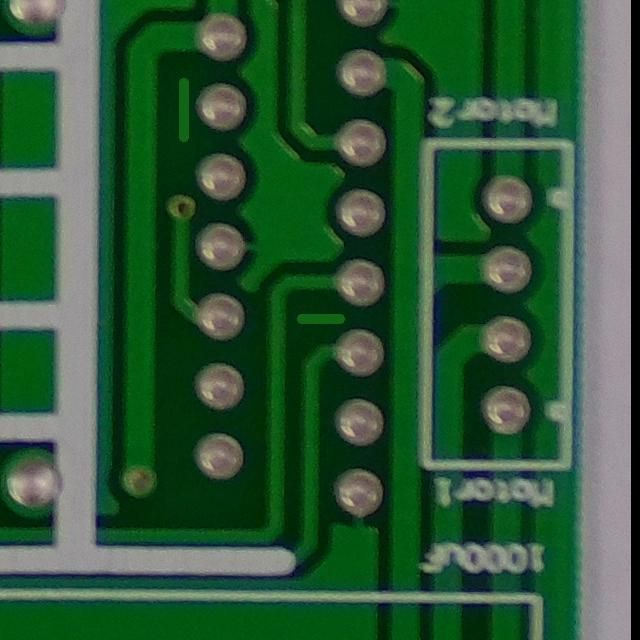spurious_copper: (282, 298, 359, 343)
